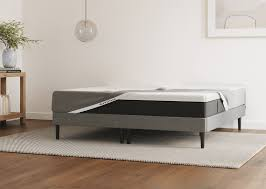bed-matress: (50, 85, 248, 117)
